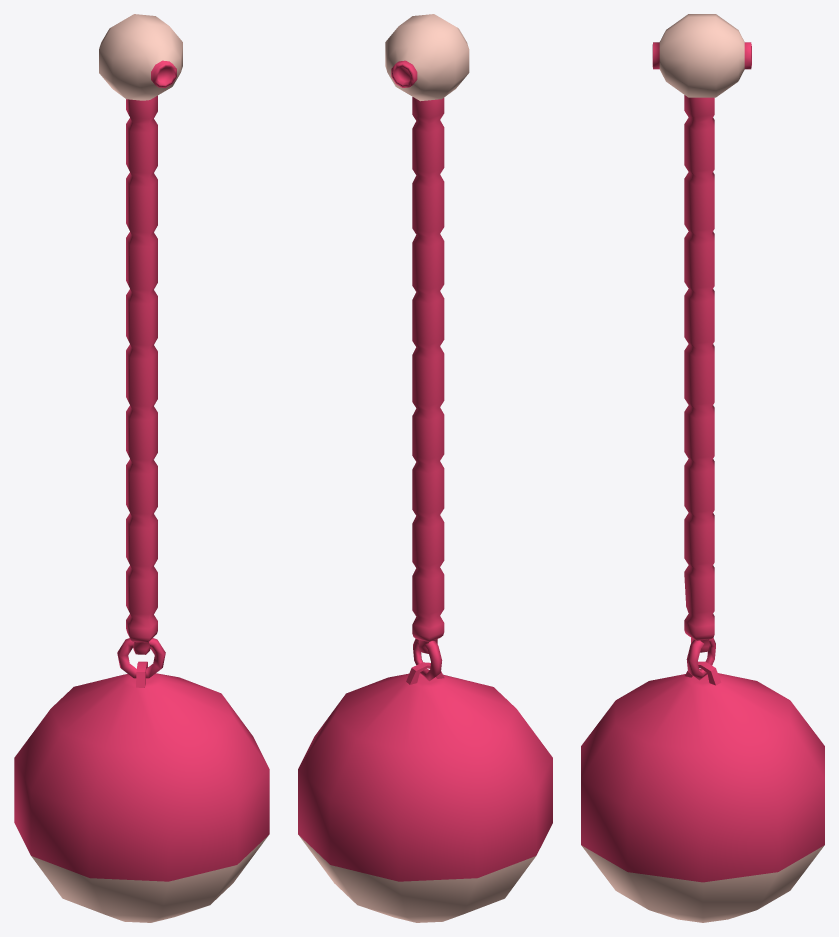
The model's file is OBS0110008.fbx.
The picture shows the model from 3 angles, left to right: view 1: azimuth 30°, elevation 25°; view 2: azimuth 150°, elevation 25°; view 3: azimuth 270°, elevation 25°; orthographic projection.
Visible parts, largest first — view 1: smOBS0110008; view 2: smOBS0110008; view 3: smOBS0110008.
Boxes of the visible parts, box(x1,y1,x2,y2) form: smOBS0110008: box(14, 14, 269, 922); smOBS0110008: box(298, 14, 552, 922); smOBS0110008: box(581, 14, 824, 922).
Bounding box in the file's own units: 109 × 420 × 104.
Materials: 1 (1 with a texture image).
